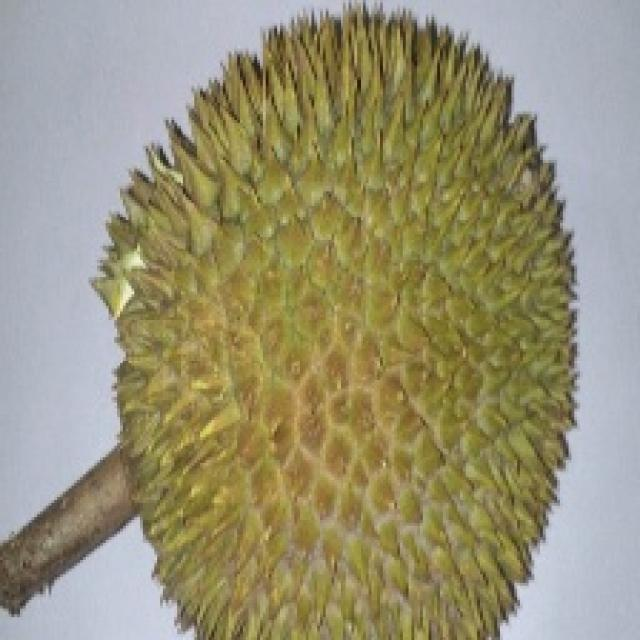d24: (9, 56, 590, 618)
